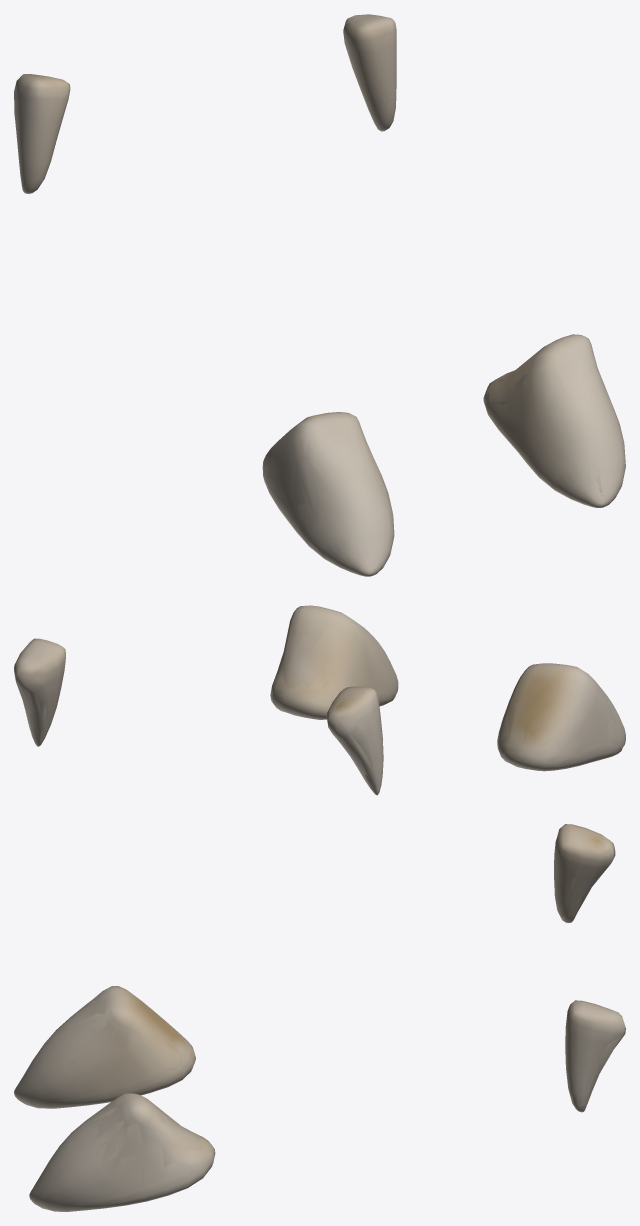
File: BR 3rd Phalanx.fbx
The picture shows the model from 3 angles, top to bottom: view 1: azimuth 30°, elevation 25°; view 2: azimuth 150°, elevation 25°; view 3: azimuth 270°, elevation 25°; orthographic projection. The views are drawn at different scales.
Parts seen in each view (by area): view 1: BR 3rd Phalanx, BR 3rd Phalanx low; view 2: BR 3rd Phalanx, BR 3rd Phalanx low; view 3: BR 3rd Phalanx, BR 3rd Phalanx low.
Part boxes in pixels (x1,y1,x2,y2): BR 3rd Phalanx: [14, 14, 625, 576]; BR 3rd Phalanx low: [14, 18, 624, 569]; BR 3rd Phalanx: [14, 605, 625, 795]; BR 3rd Phalanx low: [14, 608, 621, 791]; BR 3rd Phalanx: [14, 824, 625, 1211]; BR 3rd Phalanx low: [26, 824, 624, 1208].
Bounding box in the file's own units: 3.41 × 2.45 × 5.2.
